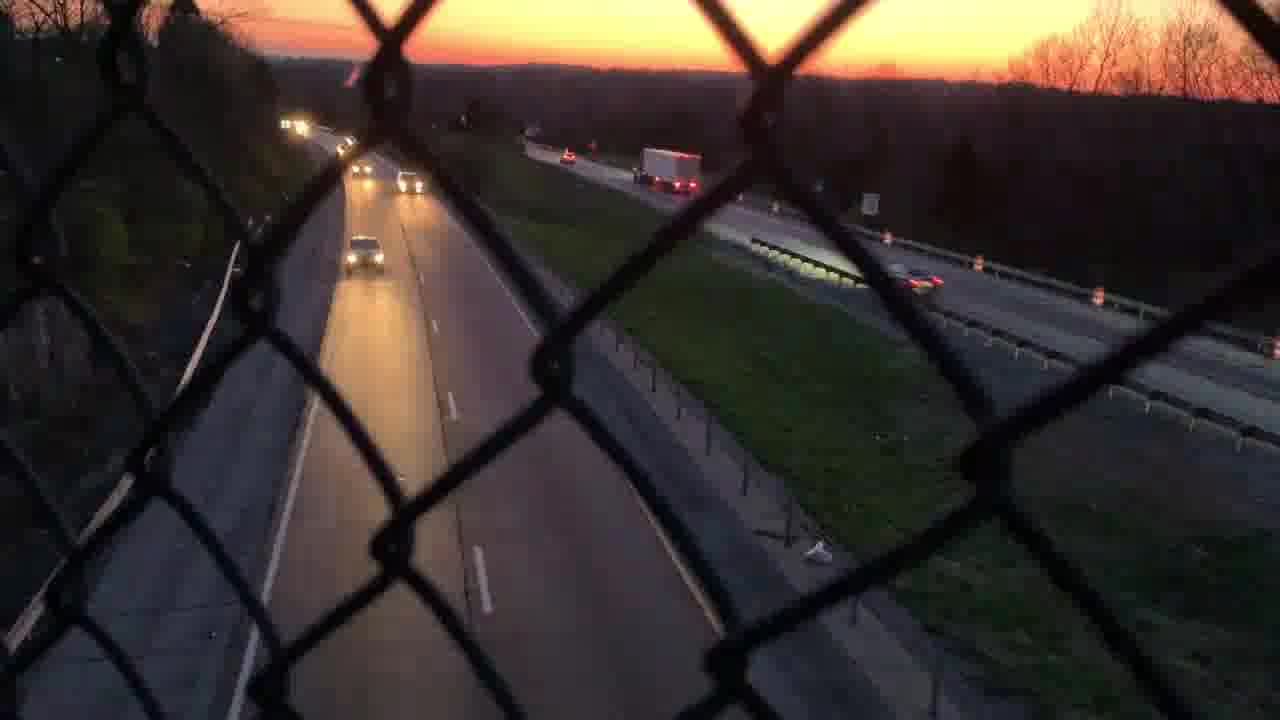heavyTruck: (632, 147, 703, 193)
largeCar: (882, 262, 945, 299)
smallCar: (344, 235, 385, 276)
